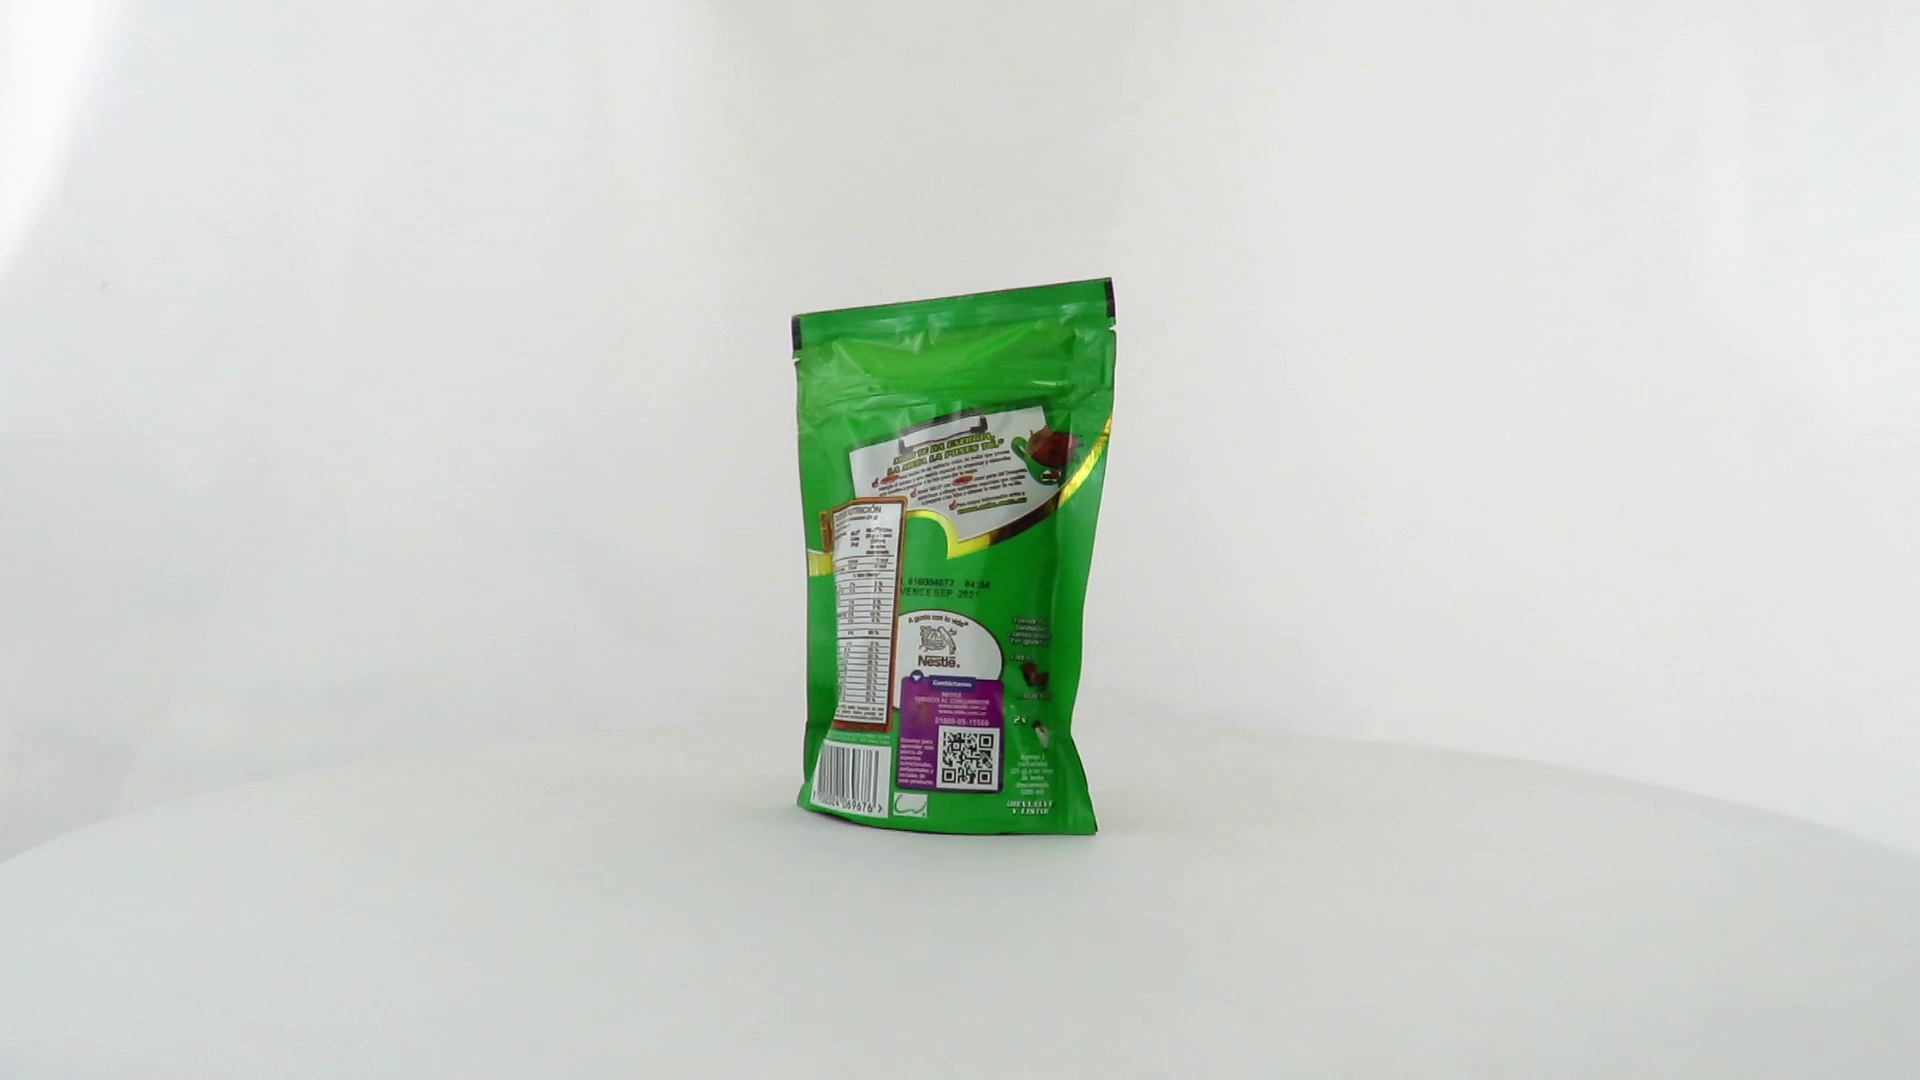COL0170203DYP10000: (786, 272, 1124, 843)
